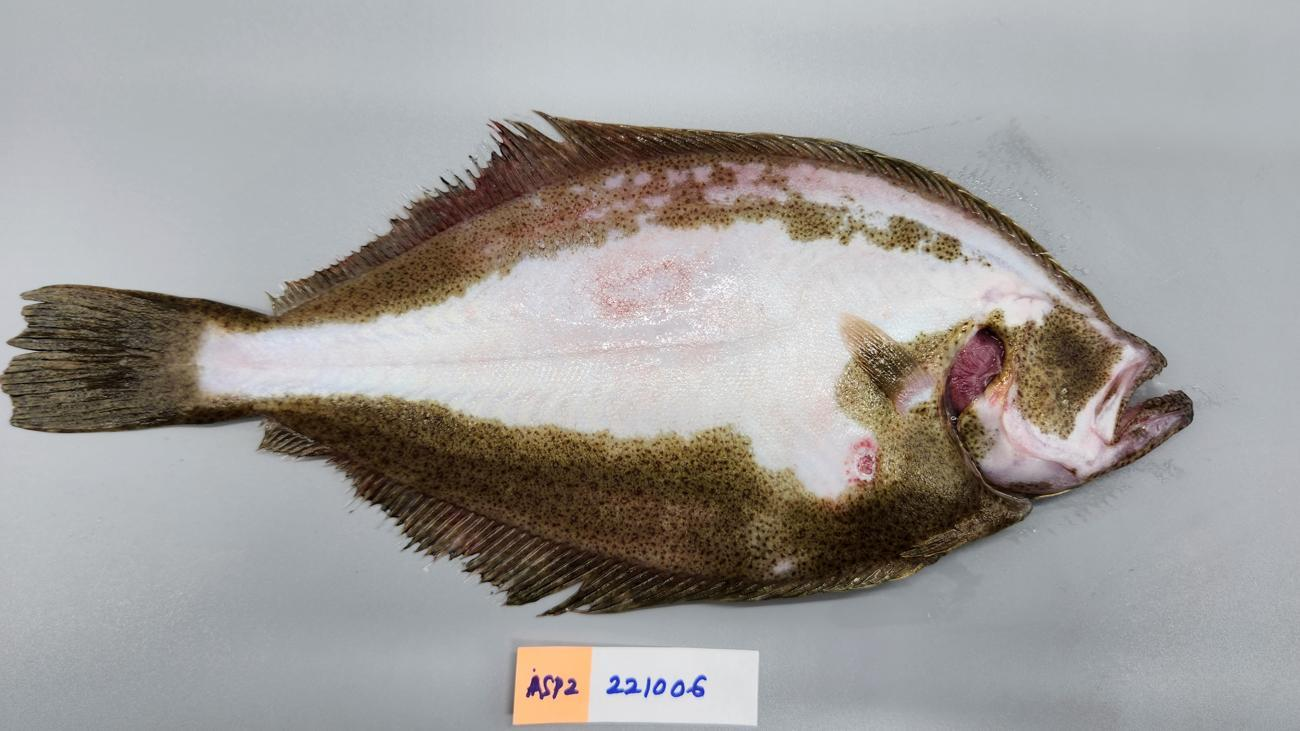SPDYH: (817, 435, 997, 575)
SPOUY: (0, 99, 1201, 625)
